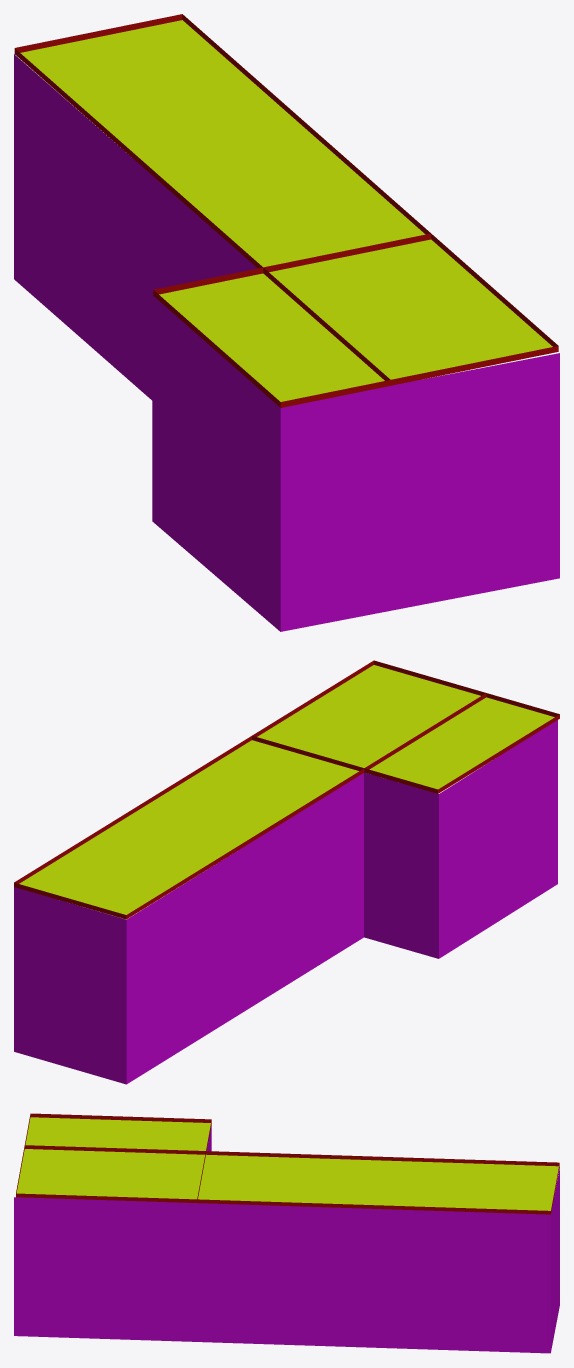
Rendered from bgj_395.glb.
The picture shows the model from 3 angles, top to bottom: view 1: azimuth 30°, elevation 25°; view 2: azimuth 150°, elevation 25°; view 3: azimuth 270°, elevation 25°; orthographic projection. The views are drawn at different scales.
Visible parts, largest first — view 1: bgj_395; view 2: bgj_395; view 3: bgj_395.
Boxes of the visible parts, box(x1,y1,x2,y2) form: bgj_395: box(14, 14, 559, 631); bgj_395: box(14, 660, 559, 1084); bgj_395: box(14, 1113, 559, 1353).
Bounding box in the file's own units: 19.65 × 13.41 × 46.53.
